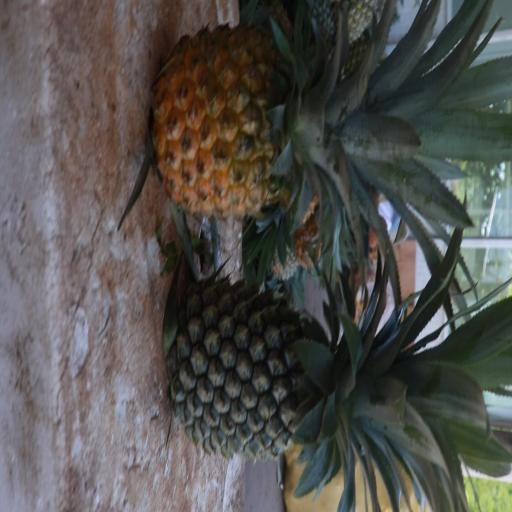Pineapple - v8 v1: (160, 36, 453, 217)
